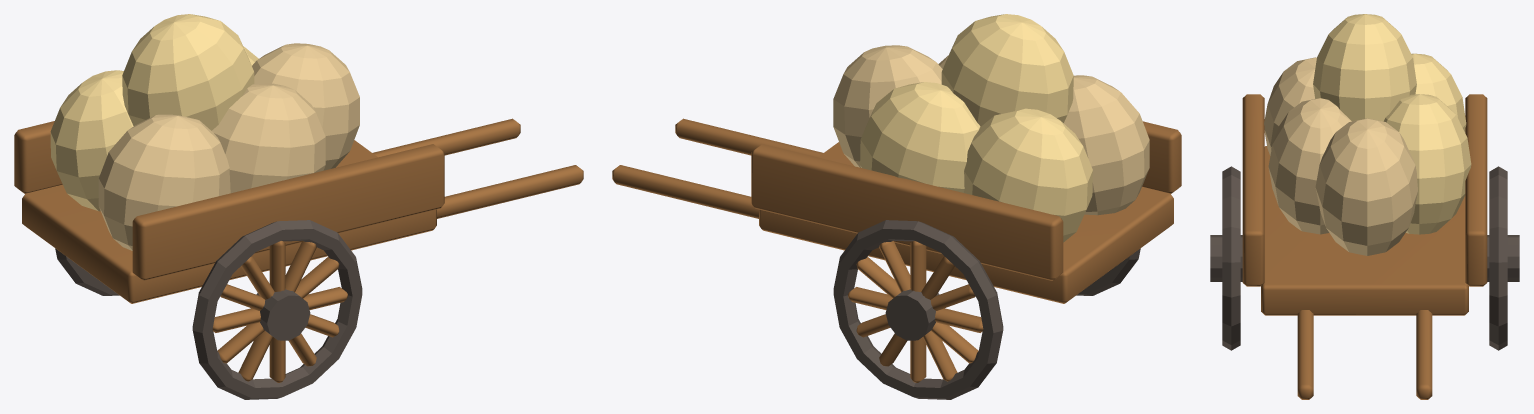
File: grain_cart.glb
3 views of the same model, side by side, from view 1: azimuth 30°, elevation 25°; view 2: azimuth 150°, elevation 25°; view 3: azimuth 270°, elevation 25° (orthographic). The views are drawn at different scales.
Visible parts, largest first — view 1: Geländer, Getreidesack.005, Getreidesack, Dielenboden, Radreifen, Getreidesack.002, Getreidesack.001, Getreidesack.004, Fuhrstange, Geländer.001, Fuhrstange.001, Radnabe (+7 smaller); view 2: Geländer.001, Getreidesack.001, Dielenboden, Getreidesack.005, Radreifen.001, Getreidesack.003, Getreidesack, Getreidesack.004, Fuhrstange.001, Geländer, Fuhrstange, Radnabe.001 (+7 smaller); view 3: Dielenboden, Getreidesack.004, Getreidesack.005, Getreidesack.003, Getreidesack.002, Geländer, Geländer.001, Radreifen, Radreifen.001, Getreidesack, Getreidesack.001, Fuhrstange (+3 smaller).
Part boxes in pixels (box(x1,y1,x2,y2)): Geländer: box(132, 144, 444, 280); Getreidesack.005: box(122, 14, 254, 130); Getreidesack: box(98, 114, 230, 250); Dielenboden: box(22, 140, 436, 303); Radreifen: box(192, 220, 362, 399); Getreidesack.002: box(212, 83, 325, 193); Getreidesack.001: box(50, 70, 133, 211); Getreidesack.004: box(252, 43, 359, 170); Fuhrstange: box(437, 165, 583, 218); Geländer.001: box(14, 121, 62, 193); Fuhrstange.001: box(373, 118, 520, 157); Radnabe: box(256, 289, 310, 340); Geländer.001: box(751, 144, 1063, 280); Getreidesack.001: box(964, 108, 1092, 242); Dielenboden: box(759, 142, 1173, 303); Getreidesack.005: box(941, 14, 1073, 126); Radreifen.001: box(833, 220, 1003, 399); Getreidesack.003: box(860, 82, 980, 192); Getreidesack: box(1063, 75, 1149, 215); Getreidesack.004: box(833, 45, 942, 167); Fuhrstange.001: box(612, 165, 758, 218); Geländer: box(1142, 121, 1181, 193); Fuhrstange: box(675, 118, 822, 157); Radnabe.001: box(885, 289, 939, 340); Dielenboden: box(1261, 146, 1468, 315); Getreidesack.004: box(1315, 118, 1417, 255); Getreidesack.005: box(1313, 14, 1416, 121); Getreidesack.003: box(1383, 94, 1471, 234); Getreidesack.002: box(1268, 98, 1351, 234); Geländer: box(1242, 94, 1264, 286); Geländer.001: box(1465, 94, 1487, 286); Radreifen: box(1222, 166, 1240, 350); Radreifen.001: box(1489, 166, 1507, 350); Getreidesack: box(1264, 57, 1316, 155); Getreidesack.001: box(1411, 53, 1466, 132); Fuhrstange: box(1297, 310, 1313, 399).
Bounding box in the file's own units: 2.09 × 1.4 × 1.25.
